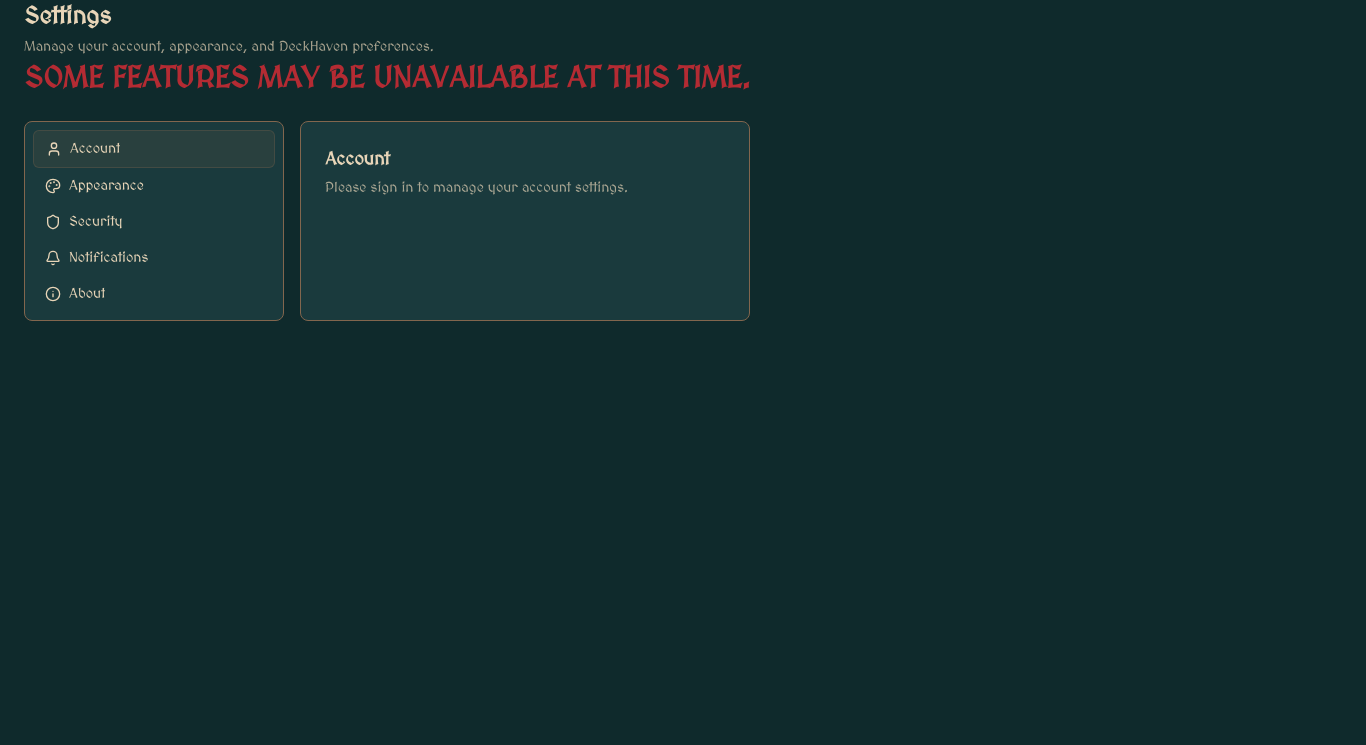
it: Theme change flow › shows theme options when Appearance tab is selected
The width and height of the screenshot is (1366, 745).
Click the button "Appearance": (154, 186) [33,168,275,204]
(page scrolled)
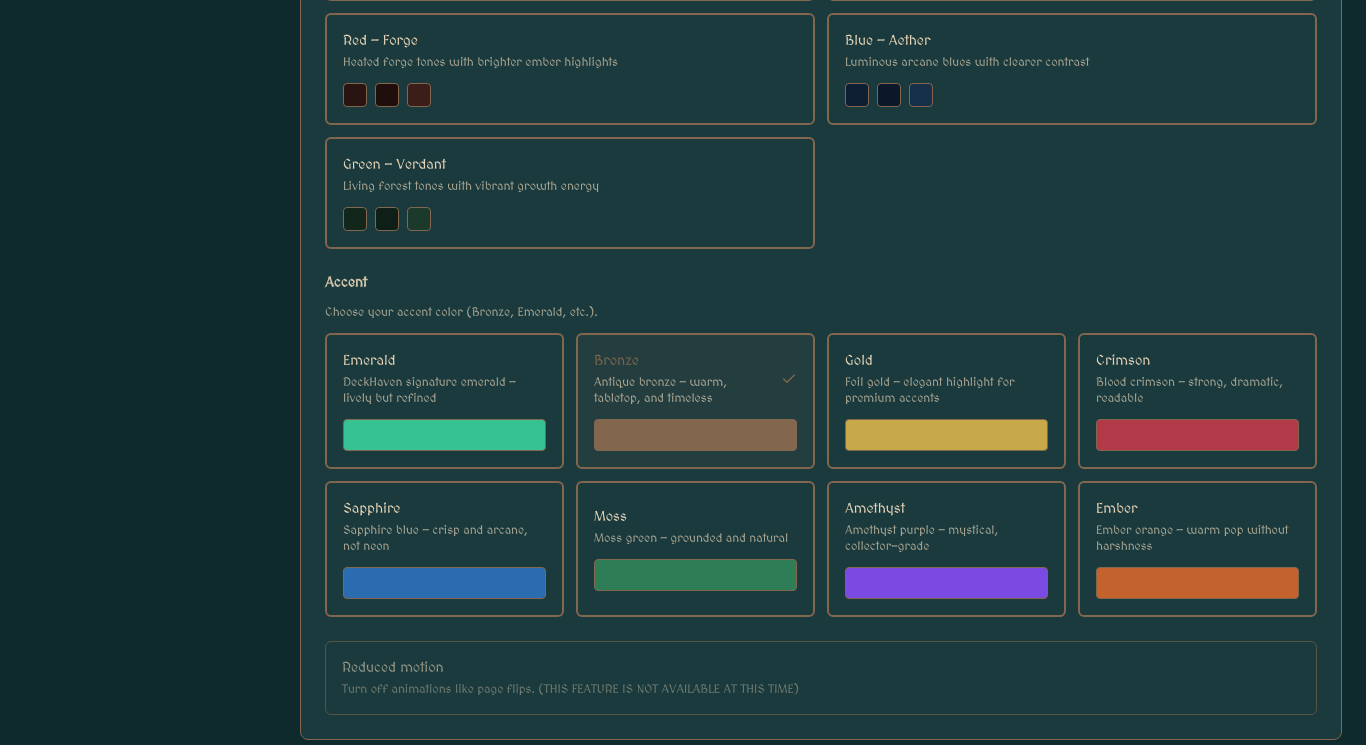
Expected: the text "Emerald" is shown, [343,353,396,369]
Expected: the text "Bronze" is shown, [594,353,639,369]
